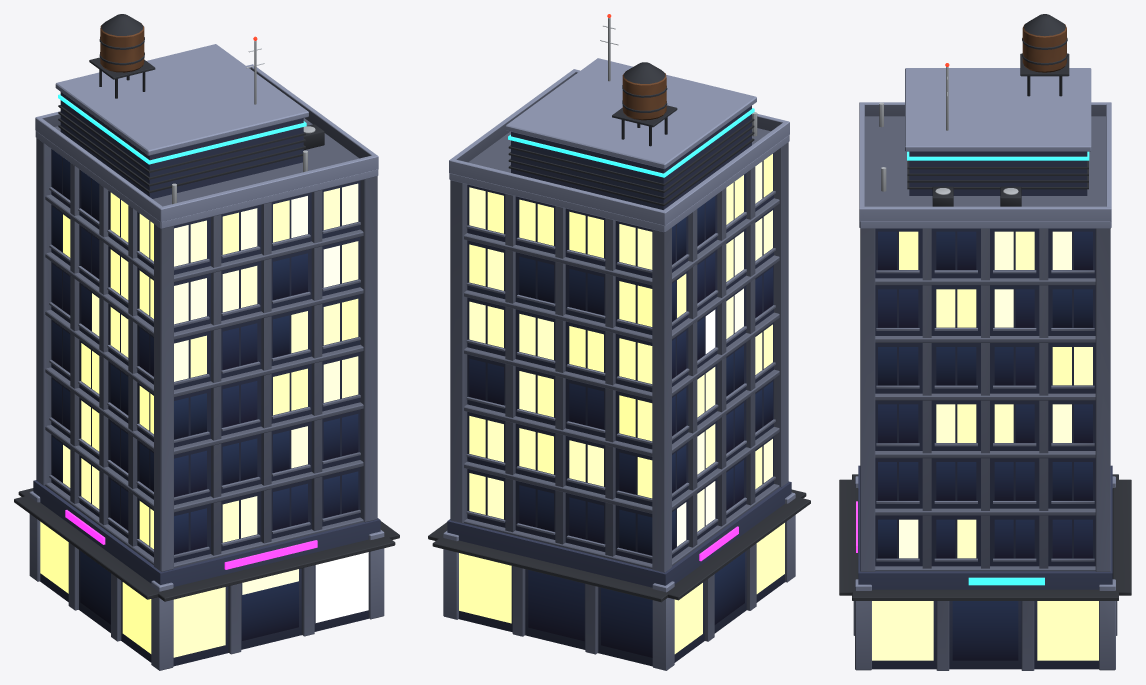
The model's file is building_block.glb.
The picture shows the model from 3 angles, left to right: view 1: azimuth 30°, elevation 25°; view 2: azimuth 150°, elevation 25°; view 3: azimuth 270°, elevation 25°; orthographic projection.
Parts seen in each view (by area): view 1: building_block; view 2: building_block; view 3: building_block.
Boxes of the visible parts, x1,y1,x2,y2 form: building_block: (14, 14, 399, 670); building_block: (428, 14, 810, 670); building_block: (839, 14, 1131, 670).
Bounding box in the file's own units: 13.8 × 29.82 × 13.8.
